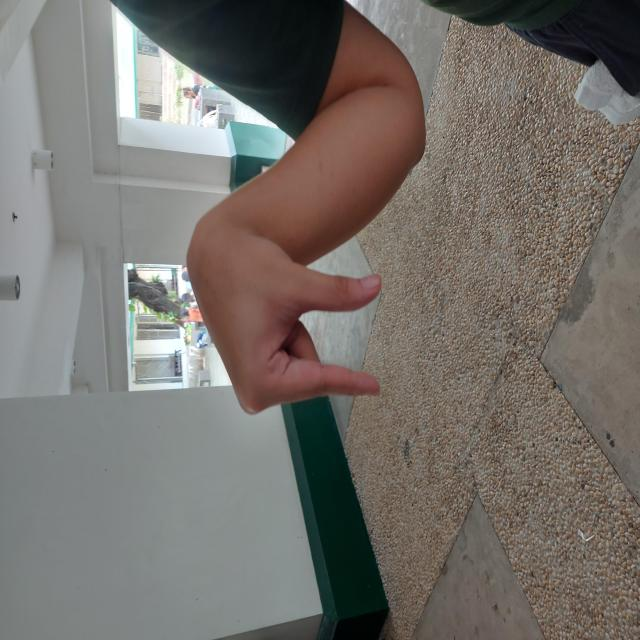Q: (223, 185, 410, 385)
